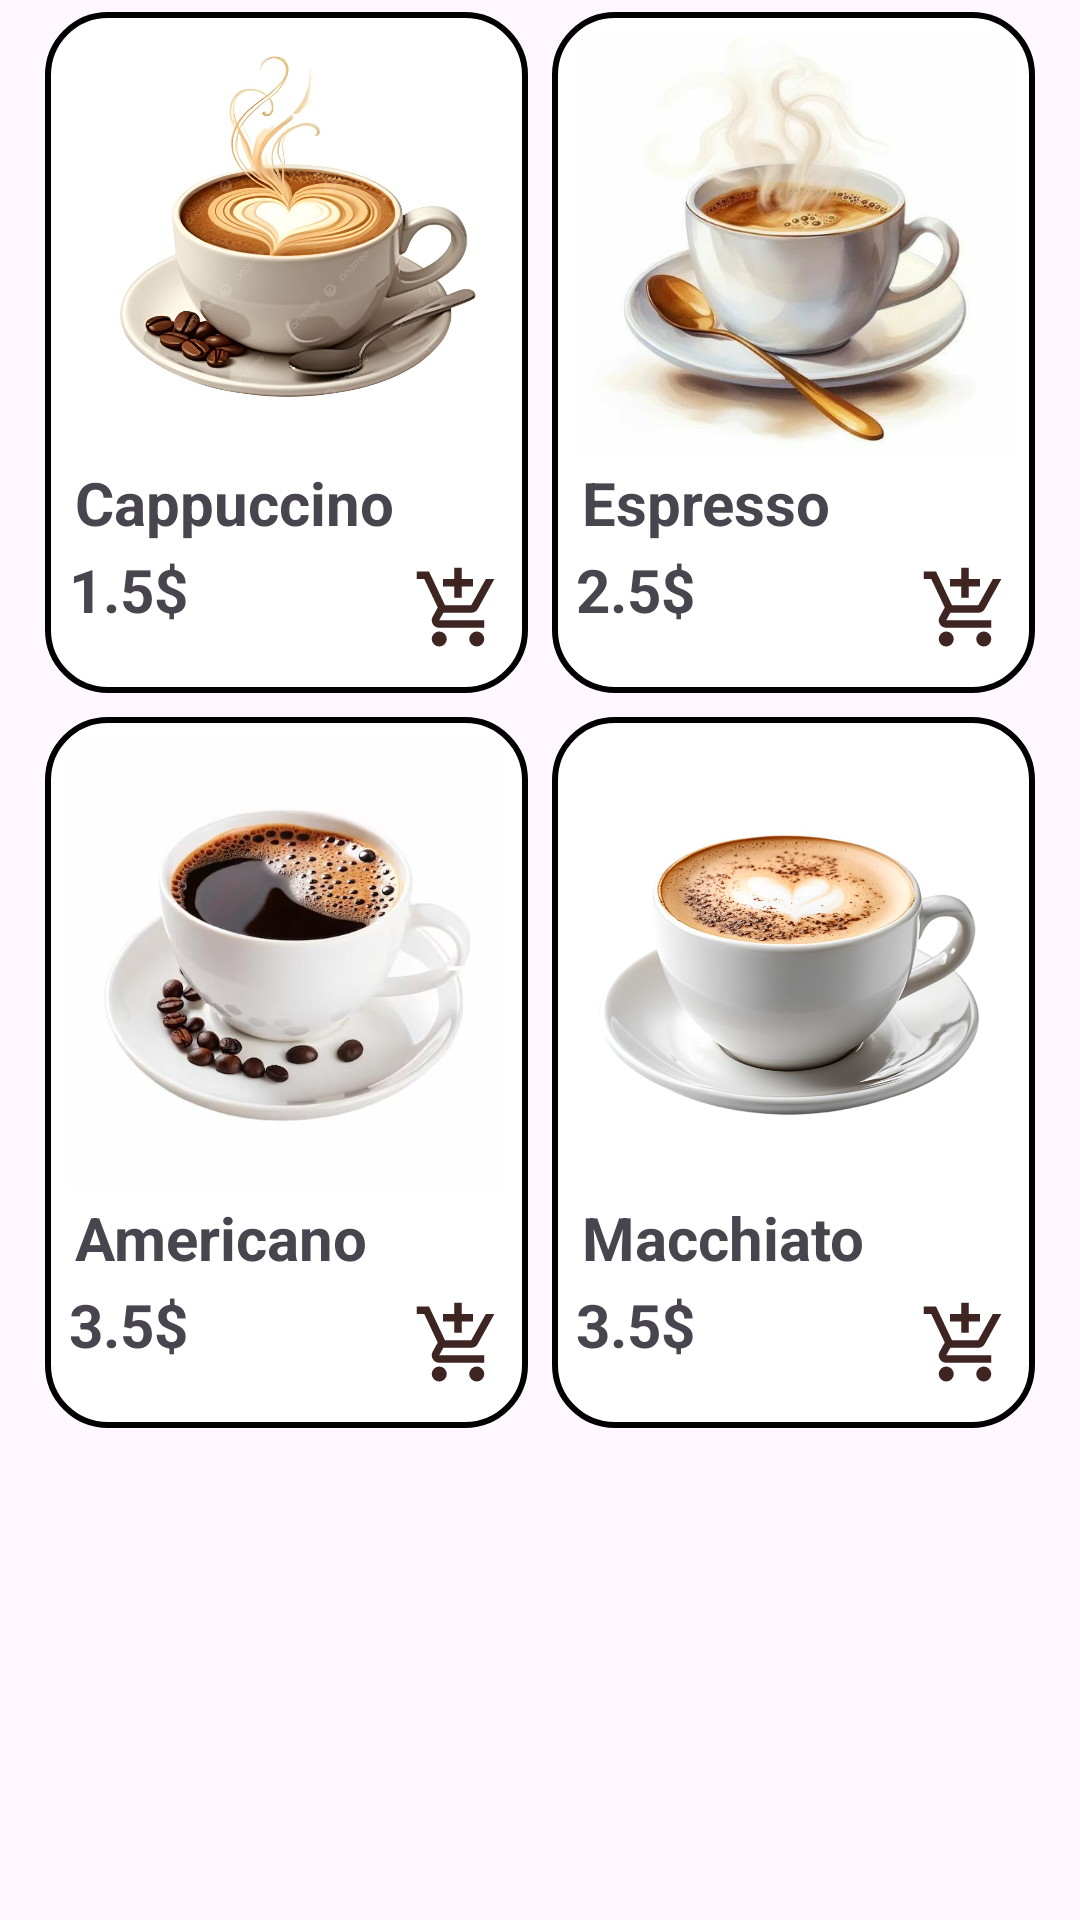

Icon bounding boxes for this 1080×1920 phone screenshot, format (x1, y1, x2, y2):
add shopping cart: (416, 567, 495, 647), (923, 567, 1002, 647), (416, 1302, 495, 1382), (923, 1302, 1002, 1382)
